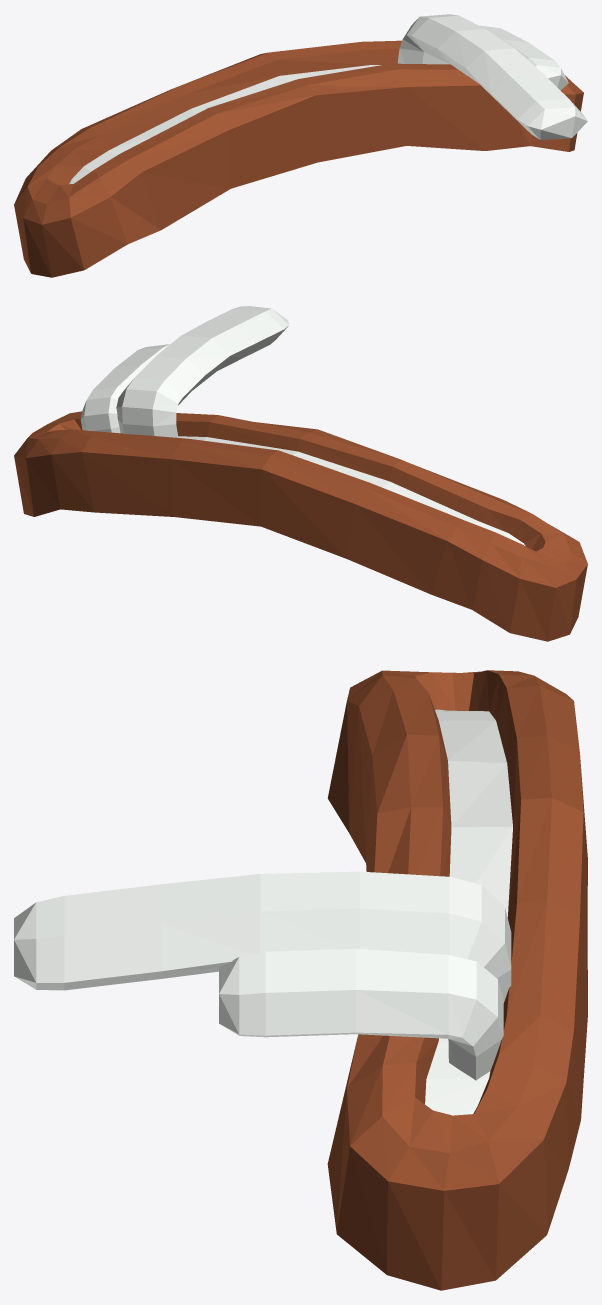
The model's file is BR_Gloom-Shiny03.obj.
The picture shows the model from 3 angles, top to bottom: view 1: azimuth 30°, elevation 25°; view 2: azimuth 150°, elevation 25°; view 3: azimuth 270°, elevation 25°; orthographic projection. The views are drawn at different scales.
Parts seen in each view (by area): view 1: kusaihana; view 2: kusaihana; view 3: kusaihana.
Part boxes in pixels (x1,y1,x2,y2): kusaihana: (14,14,587,277); kusaihana: (14,306,587,641); kusaihana: (14,670,587,1290).
Size of the model in its own units: 2.48 by 0.6913 by 1.2.
Materials: 1 (1 with a texture image).
